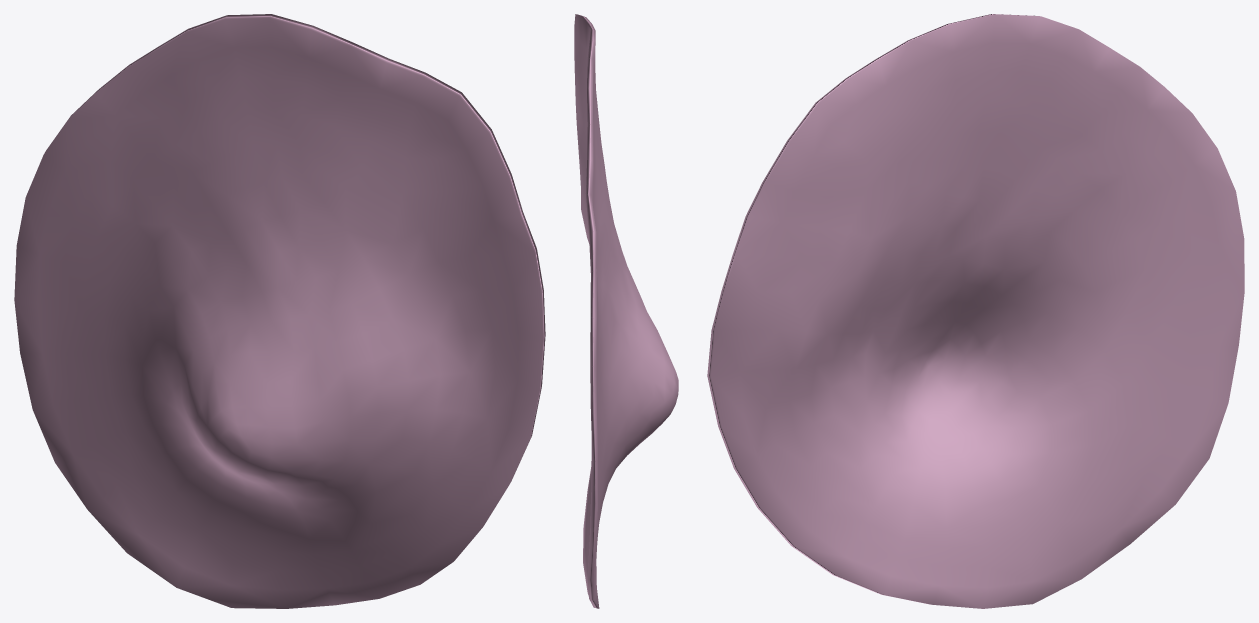
3 views of the same model, side by side, from view 1: azimuth 30°, elevation 25°; view 2: azimuth 150°, elevation 25°; view 3: azimuth 270°, elevation 25° (orthographic). The views are drawn at different scales.
Visible parts, largest first — view 1: 左侧鼓膜; view 2: 左侧鼓膜; view 3: 左侧鼓膜.
Boxes of the visible parts, <box> form: 左侧鼓膜: <box>14,14,545,608</box>; 左侧鼓膜: <box>574,14,678,608</box>; 左侧鼓膜: <box>707,14,1244,608</box>.
Bounding box in the file's own units: 0.00732 × 0.0155 × 0.0125.
